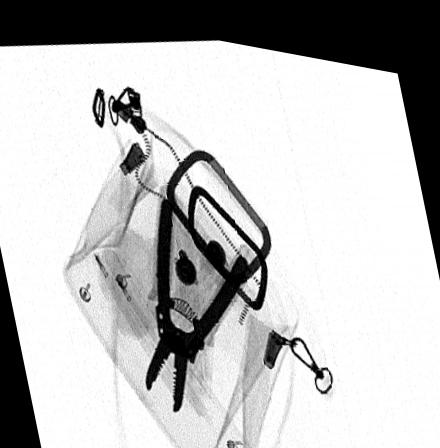Pliers: (144, 191, 250, 405)
